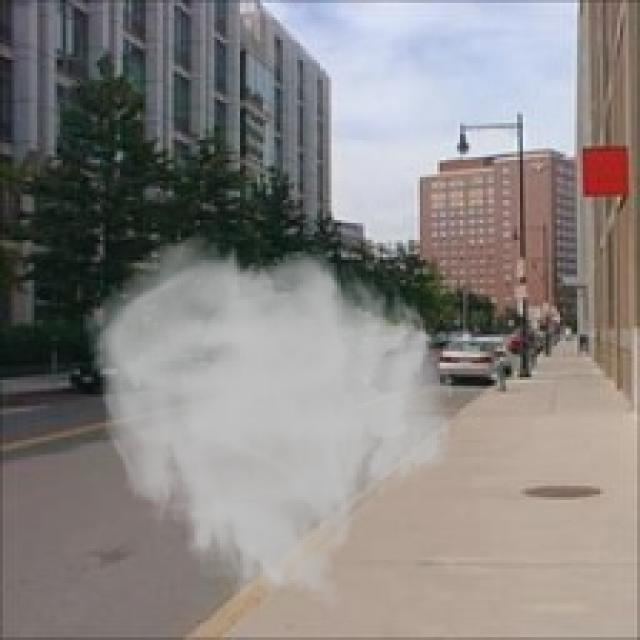Smoke: (86, 232, 457, 614)
